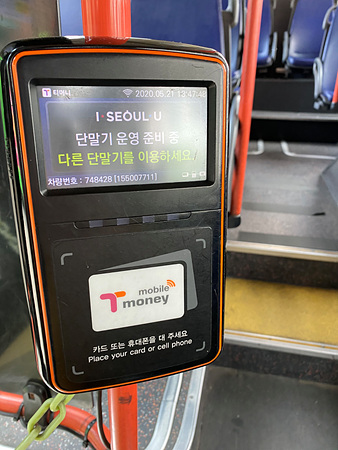terminal: (9, 41, 222, 371)
